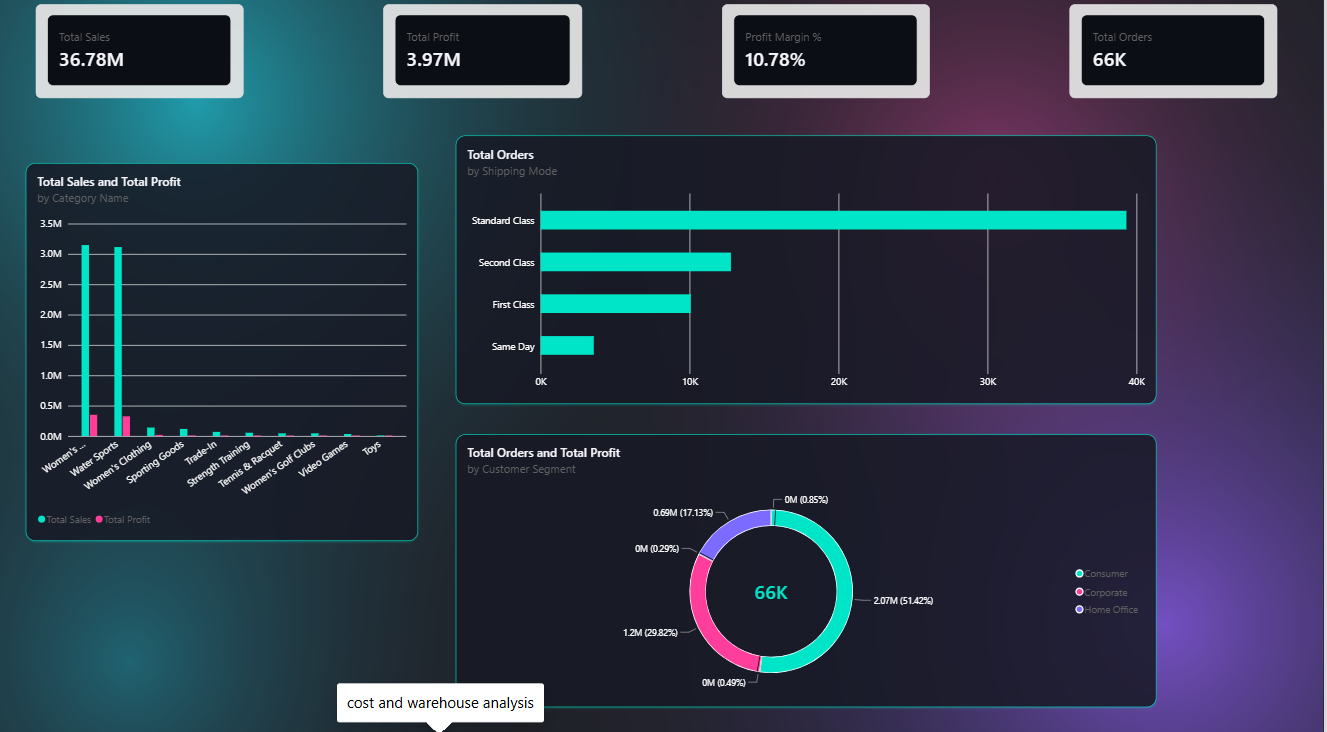

The page's visual inventory and layout, read from the dashboard file:
{"tool":"powerbi","page":{"name":"cost and warehouse analysis","canvas":[1920,1080],"ordinal":2},"visuals":[{"type":"barChart","fields":{"Category":["DataCoSupplyChainDataset.Shipping Mode"],"Y":["'Measures'.Total Orders"]},"box":[664.8,205.8,1014.8,389],"z":0},{"type":"clusteredColumnChart","fields":{"Category":["DataCoSupplyChainDataset.Category Name"],"Y":["'Measures'.Total Sales","'Measures'.Total Profit"]},"box":[41.2,247,568.1,547.5],"z":1000},{"type":"donutChart","fields":{"Category":["DataCoSupplyChainDataset.Customer Segment"],"Y":["'Measures'.Total Orders","'Measures'.Total Profit"]},"box":[664.8,638.1,1014.8,395.2],"z":2000},{"type":"cardVisual","fields":{"Data":["'Measures'.Total Sales"]},"box":[55.6,16.5,300.5,135.8],"z":3000},{"type":"cardVisual","fields":{"Data":["'Measures'.Total Profit"]},"box":[558.5,16.5,288.2,135.8],"z":4000},{"type":"cardVisual","fields":{"Data":["'Measures'.Profit Margin %"]},"box":[1049.1,16.5,300.5,135.8],"z":5000},{"type":"cardVisual","fields":{"Data":["'Measures'.Total Orders"]},"box":[1552,16.5,300.5,135.8],"z":6000}]}

Visuals, with their boxes in screenshot pixels (x1, y1, x2, y2), scaled from the page's 1920x1080 canvas onto the 1327x732 screenshot:
barChart - DataCoSupplyChainDataset.Shipping Mode x 'Measures'.Total Orders: (459, 139, 1161, 403)
clusteredColumnChart - DataCoSupplyChainDataset.Category Name x 'Measures'.Total Sales: (28, 167, 421, 538)
donutChart - DataCoSupplyChainDataset.Customer Segment x 'Measures'.Total Orders: (459, 432, 1161, 700)
cardVisual - 'Measures'.Total Sales: (38, 11, 246, 103)
cardVisual - 'Measures'.Total Profit: (386, 11, 585, 103)
cardVisual - 'Measures'.Profit Margin %: (725, 11, 933, 103)
cardVisual - 'Measures'.Total Orders: (1073, 11, 1280, 103)
